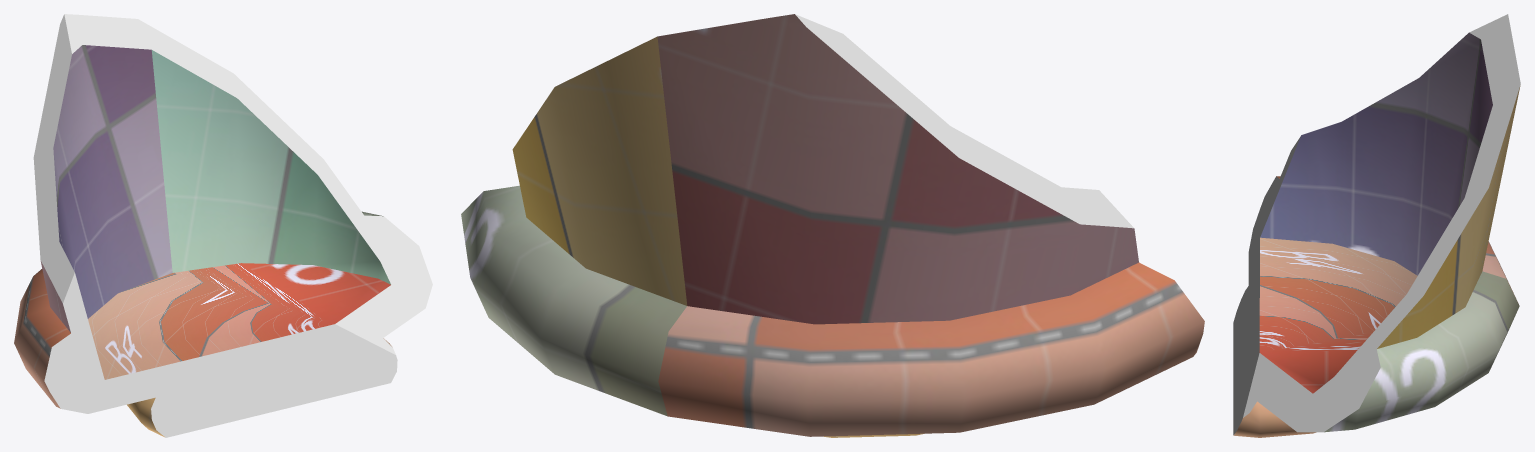
Rendered from MediumVase_SHAT_cell_004.fbx.
3 renders of one model, left to right at view 1: azimuth 30°, elevation 25°; view 2: azimuth 150°, elevation 25°; view 3: azimuth 270°, elevation 25°, orthographic. The views are drawn at different scales.
Parts seen in each view (by area): view 1: MediumVase_SHAT_cell_004; view 2: MediumVase_SHAT_cell_004; view 3: MediumVase_SHAT_cell_004.
Part boxes in pixels (<box>): MediumVase_SHAT_cell_004: <box>14,14,432,437</box>; MediumVase_SHAT_cell_004: <box>461,14,1204,437</box>; MediumVase_SHAT_cell_004: <box>1233,14,1520,437</box>.
Size of the model in its own units: 0.7333 by 0.5289 by 0.4236.
2 materials, 1 textured.
